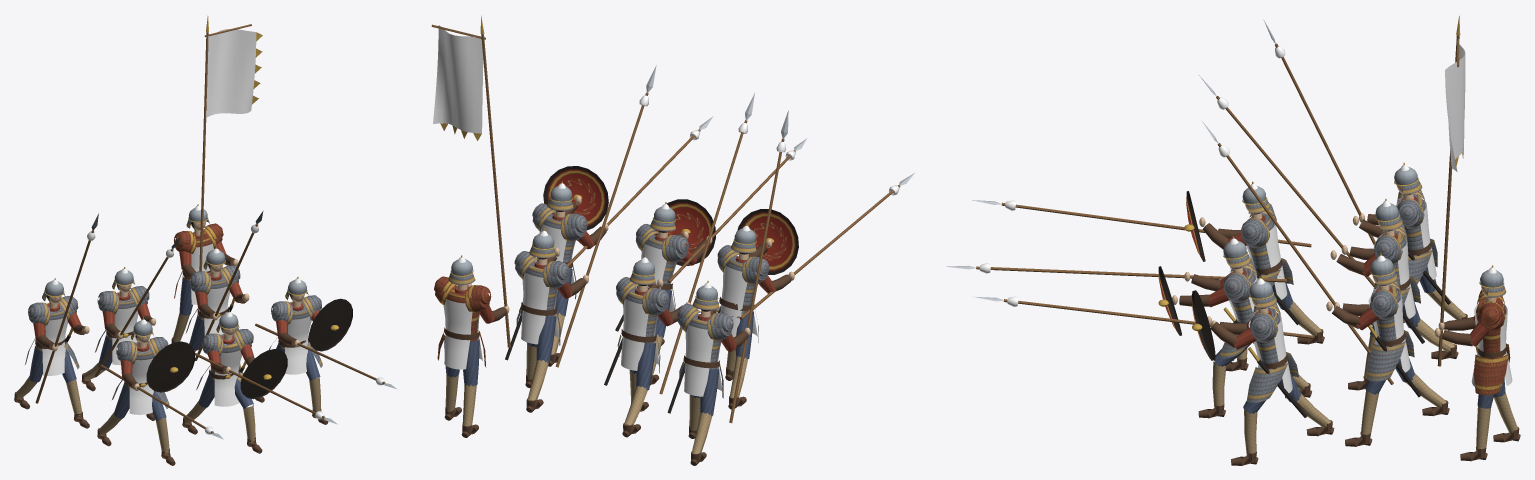
The model's file is Unit_Infantry.glb.
3 views of the same model, side by side, from view 1: azimuth 30°, elevation 25°; view 2: azimuth 150°, elevation 25°; view 3: azimuth 270°, elevation 25° (orthographic). The views are drawn at different scales.
Parts seen in each view (by area): view 1: Unit_Infantry; view 2: Unit_Infantry; view 3: Unit_Infantry.
Part boxes in pixels (box(x1,y1,x2,y2)): Unit_Infantry: box(14, 16, 397, 465); Unit_Infantry: box(431, 15, 914, 465); Unit_Infantry: box(946, 16, 1520, 465).
Bounding box in the file's own units: 3.34 × 4.52 × 5.42.
2 materials, 1 textured.
